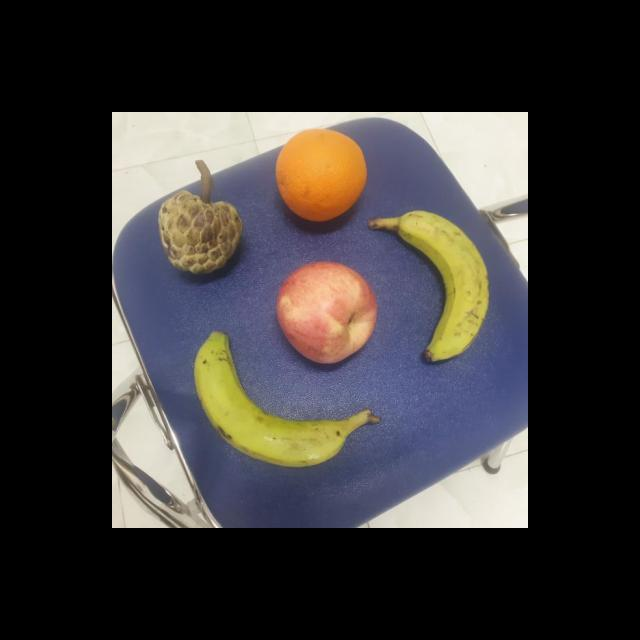Sakya fruit: (154, 188, 252, 278)
apple: (270, 258, 391, 372)
banana: (193, 329, 382, 466), (362, 208, 500, 372)
orange: (273, 126, 373, 220)
